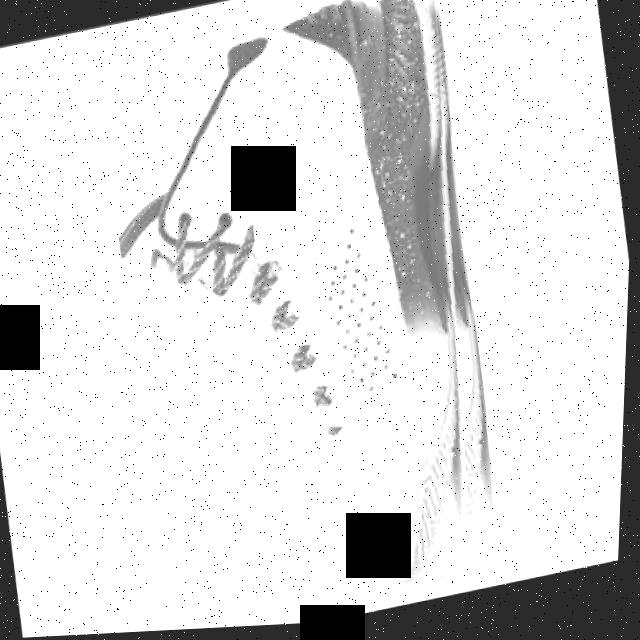shoe: (78, 0, 529, 636)
